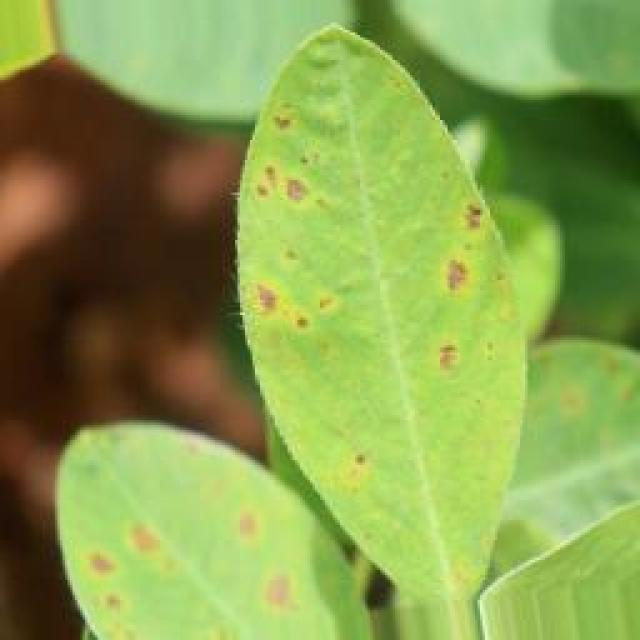Sigatoka: (413, 185, 503, 385), (219, 487, 310, 640), (223, 266, 364, 343), (66, 506, 160, 610), (250, 118, 309, 224), (310, 432, 374, 498)
